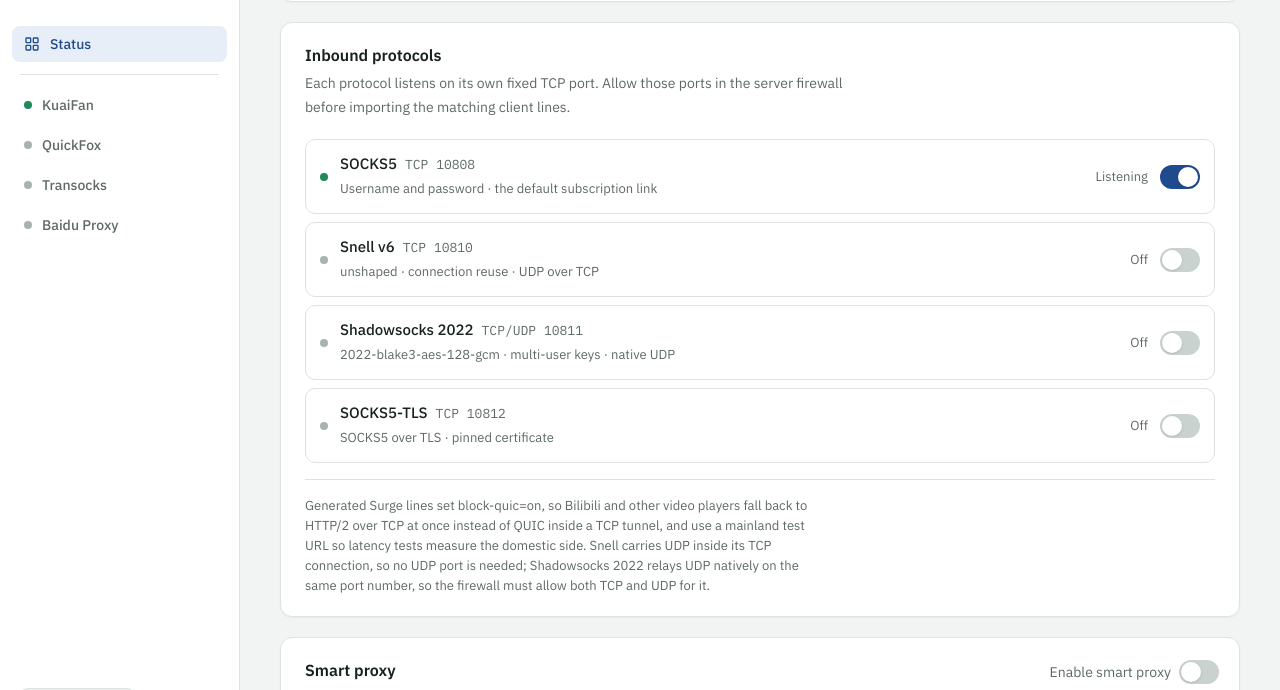
Test: inbound protocols › keeps a protocol off when its port cannot be bound
This screenshot has width=1280, height=690.
(page scrolled)
What coordinates should you click on to do the following:
click the switch named "Enable Shadowsocks 2022"
I would click on:
 (1180, 343)
Its box is [1160, 331, 1200, 355].
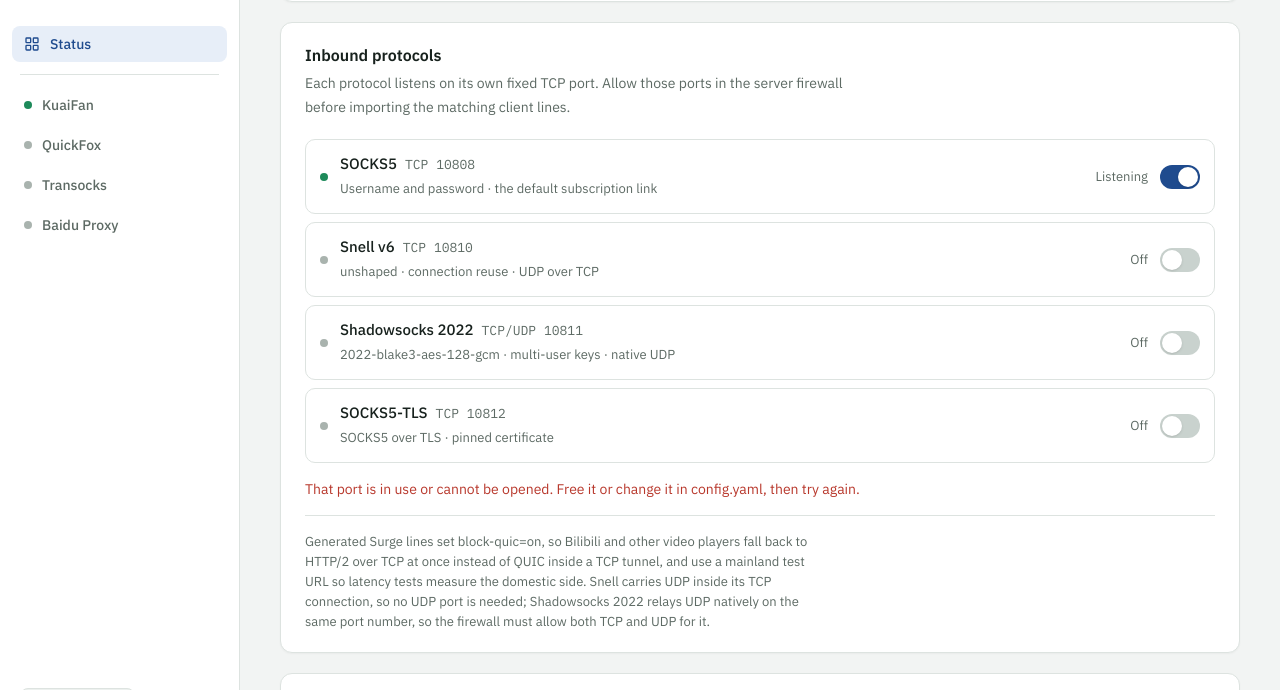
Check: the message shows "That port is in use", box [305, 480, 860, 498]
